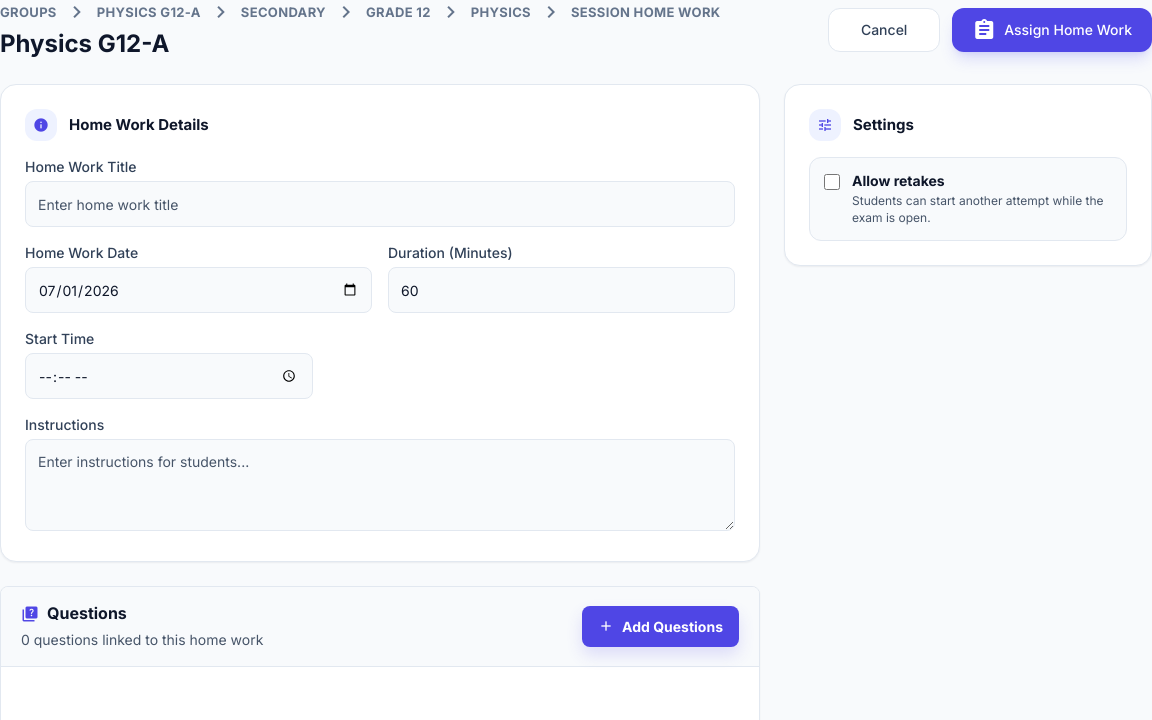
TenantGroupExamCreateComponent › renders optional start time and the Home Work add questions modal
This screenshot has width=1152, height=720.
Click the button with class "add-questions-button" at (661, 626), box 582,606 -> 739,647
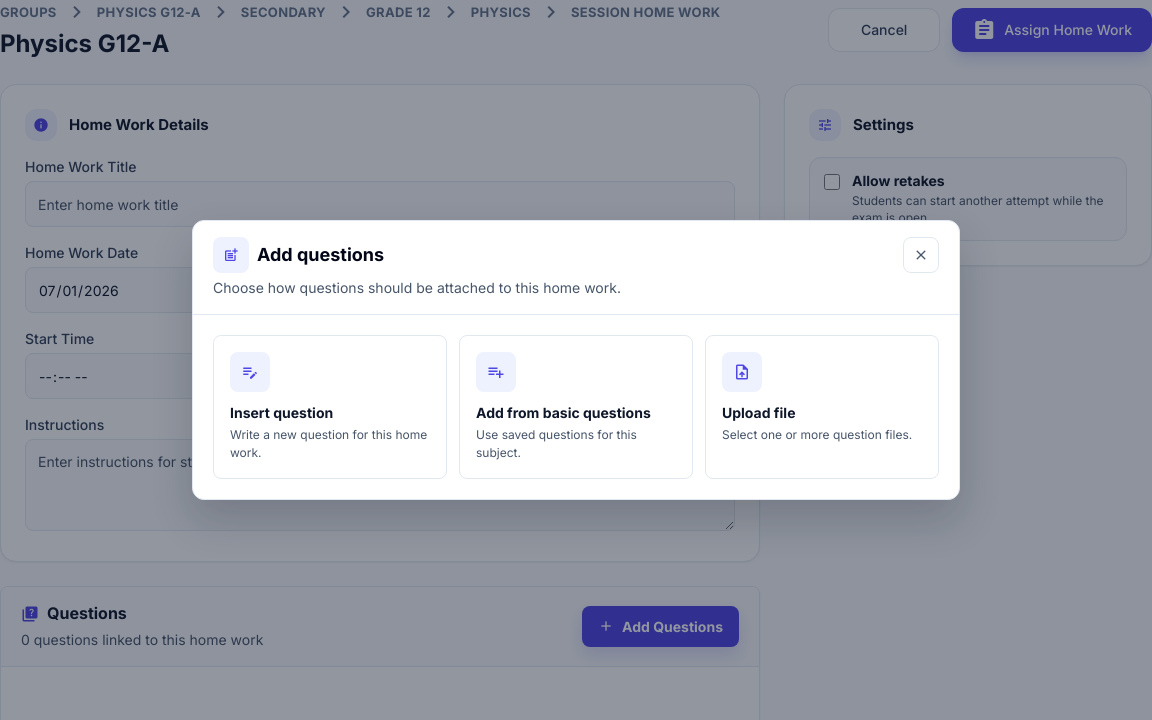
Expected: the text "Insert question" is shown, 230,404 -> 333,420
Expected: the text "Add from basic questions" is shown, 476,404 -> 676,422
Expected: the text "Upload file" is shown, 722,404 -> 796,420
